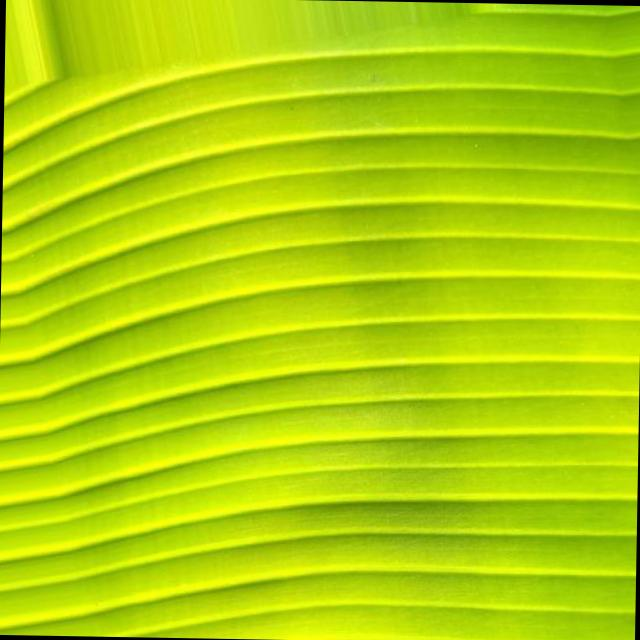Banana_Healthy: (0, 14, 618, 640)
